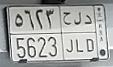2: (35, 9, 47, 58)
3: (46, 8, 58, 58)
5: (14, 13, 26, 58)
6: (24, 9, 37, 58)
D: (84, 14, 95, 53)
J: (61, 11, 74, 55)
L: (74, 11, 85, 53)
